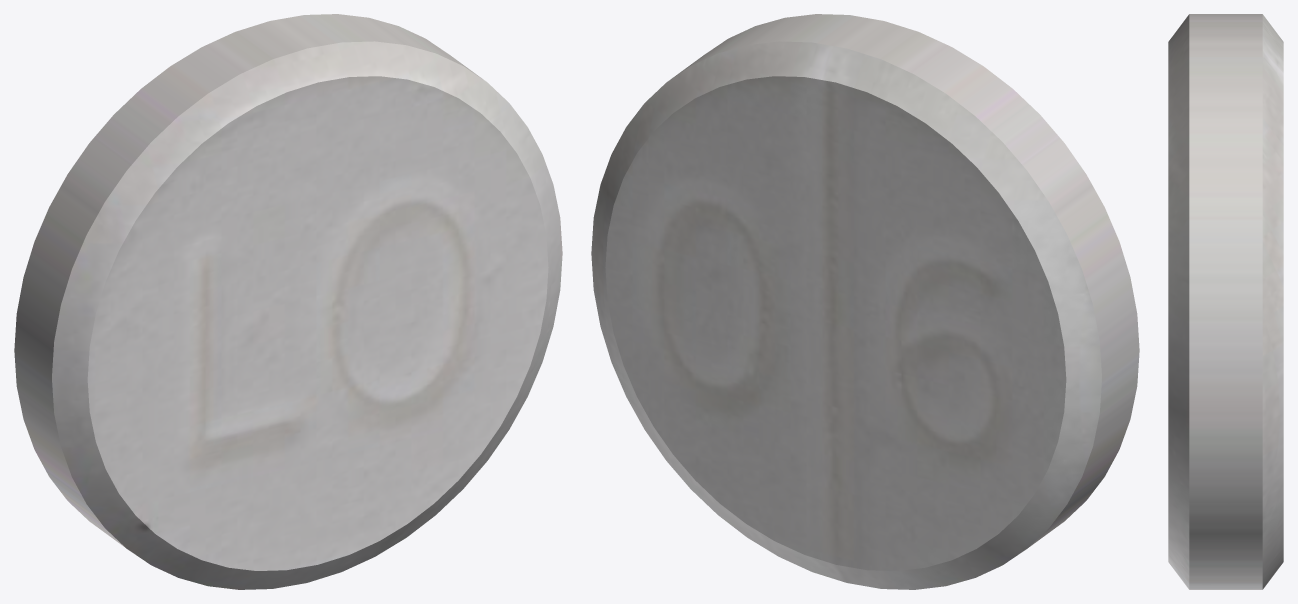
Rendered from 20160505GOPHDRGPT22630.fbx.
3 views of the same model, side by side, from view 1: azimuth 30°, elevation 25°; view 2: azimuth 150°, elevation 25°; view 3: azimuth 270°, elevation 25° (orthographic). The views are drawn at different scales.
Parts seen in each view (by area): view 1: BezierCircle; view 2: BezierCircle; view 3: BezierCircle.
Part boxes in pixels (left/top/right/bottom): BezierCircle: left=14, top=14, right=562, bottom=589; BezierCircle: left=591, top=14, right=1139, bottom=589; BezierCircle: left=1168, top=14, right=1283, bottom=589.
Bounding box in the file's own units: 0.7298 × 0.7298 × 0.1464.
Materials: 1 (1 with a texture image).
